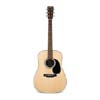guitar: (33, 5, 68, 94)
